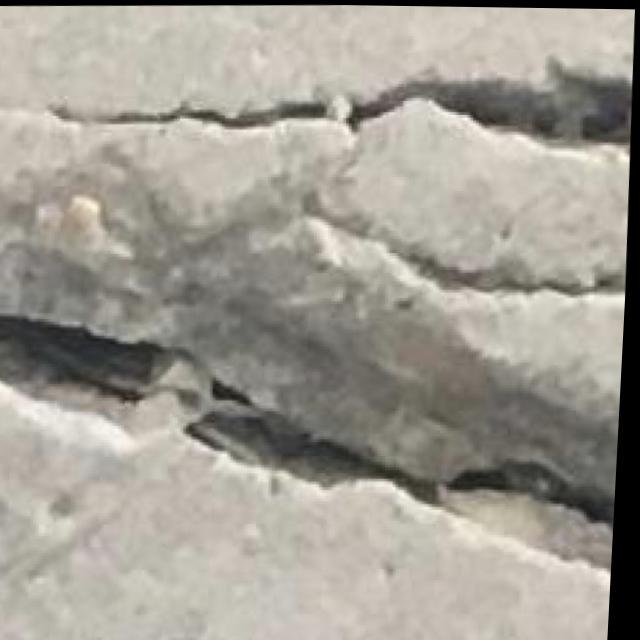Crack: (0, 34, 639, 596)
